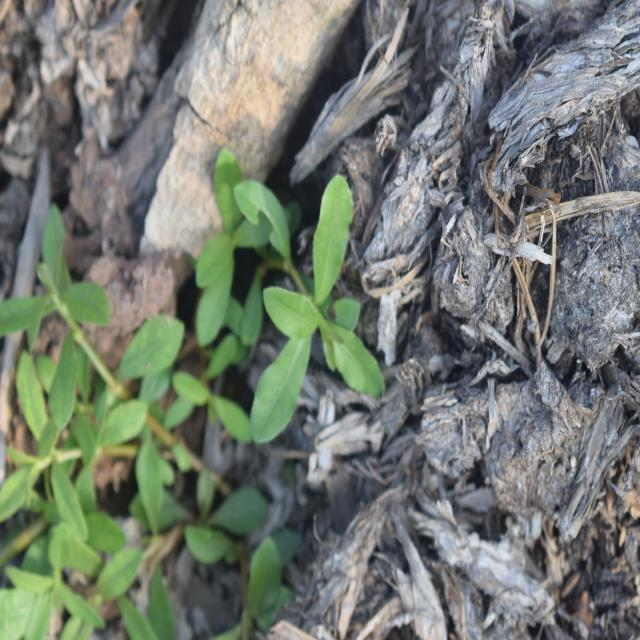Alligatorweed: (181, 164, 391, 409), (0, 268, 156, 494)
